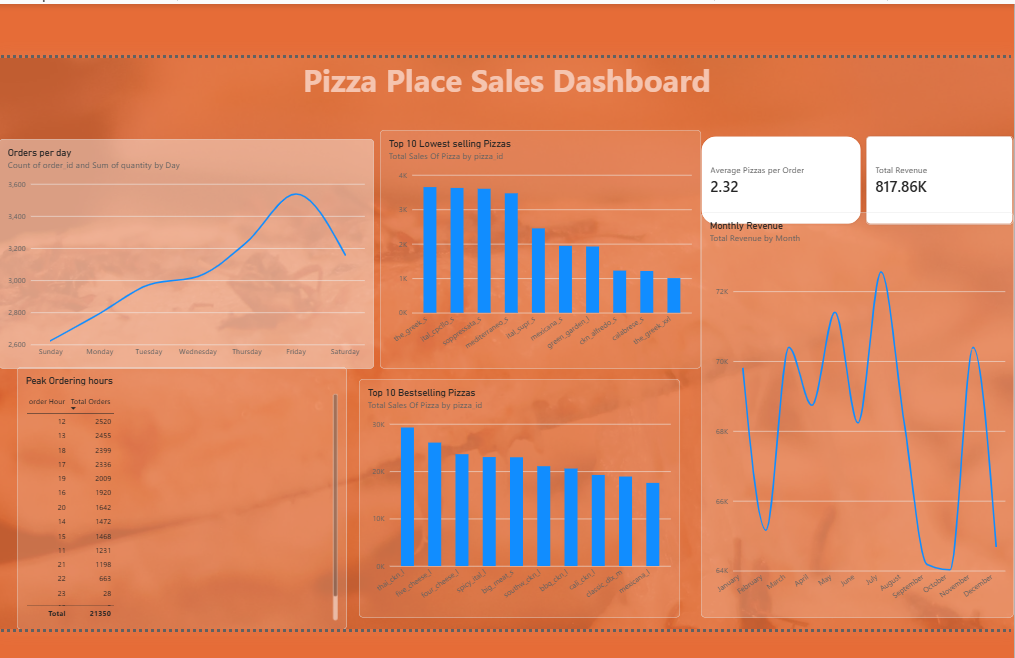

This screenshot's page, from the dashboard's own definition file:
{"tool":"powerbi","page":{"name":"Page 1","canvas":[1920,1080],"ordinal":0},"visuals":[{"type":"lineChart","title":"Orders per day","fields":{"Y":["CountNonNull(orders.order_id)"],"Category":["orders.Day","orders.Hour Of The day","orders.date"]},"box":[0,152.5,708.7,433.7],"z":0},{"type":"tableEx","title":"Peak Ordering hours","fields":{"Values":["orders.order Hour","orders.Total Orders"]},"box":[34,583.9,623.6,496.1],"z":1000},{"type":"cardVisual","fields":{"Data":["order_details.Average Pizzas per Order"]},"box":[1326.6,147.4,303.3,167.2],"z":2000},{"type":"clusteredColumnChart","title":"Top 10 Lowest selling Pizzas","fields":{"Category":["order_details.pizza_id"],"Y":["order_details.Total Sales Of Pizza"]},"box":[720,135,606.6,450.7],"z":3000},{"type":"cardVisual","fields":{"Data":["order_details.Total Revenue"]},"box":[1638.4,147.4,280.6,167.2],"z":4000},{"type":"lineChart","title":"Monthly  Revenue","fields":{"Category":["orders.date.Variation.Date Hierarchy.Month","orders.date.Variation.Date Hierarchy.Day"],"Y":["order_details.Total Revenue"]},"box":[1326.6,292,592.4,765.4],"z":5000},{"type":"textbox","box":[0,0,1919.1,147.4],"z":7000},{"type":"clusteredColumnChart","title":"Top 10 Bestselling Pizzas","fields":{"Category":["order_details.pizza_id"],"Y":["order_details.Total Sales Of Pizza"]},"box":[680.3,606.6,606.6,450.7],"z":8000}]}

Visuals, with their boxes on the page's 1920x1080 design canvas (x1, y1, x2, y2). These are canvas units, not pixel positions in the 1015x658 screenshot, which may show the page scaled, cropped or inside an application window:
"Orders per day" lineChart: <region>0, 152, 709, 586</region>
"Peak Ordering hours" tableEx: <region>34, 584, 658, 1080</region>
cardVisual - order_details.Average Pizzas per Order: <region>1327, 147, 1630, 315</region>
"Top 10 Lowest selling Pizzas" clusteredColumnChart: <region>720, 135, 1327, 586</region>
cardVisual - order_details.Total Revenue: <region>1638, 147, 1919, 315</region>
"Monthly  Revenue" lineChart: <region>1327, 292, 1919, 1057</region>
textbox: <region>0, 0, 1919, 147</region>
"Top 10 Bestselling Pizzas" clusteredColumnChart: <region>680, 607, 1287, 1057</region>
